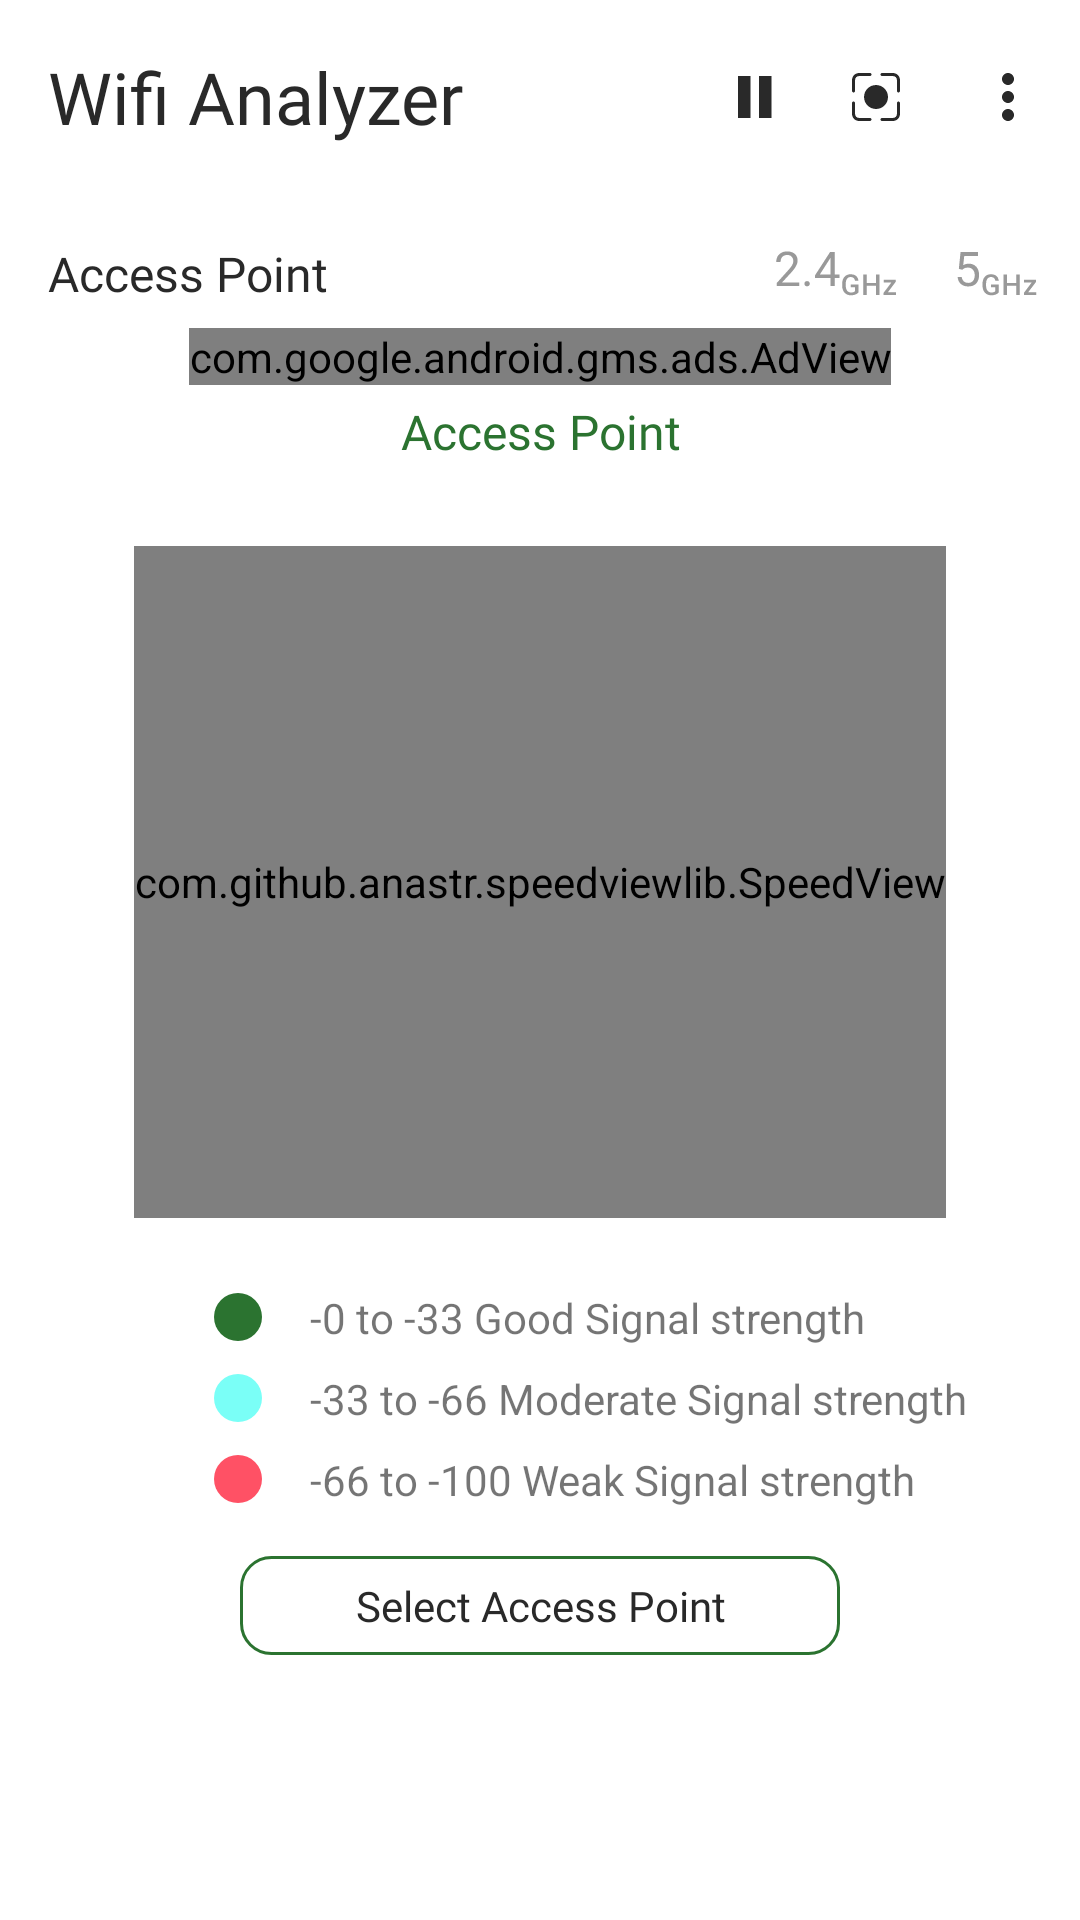

Where icons sit on this 1080×1920 app screen, as (x1, y1, x2, y2):
more: (1002, 73, 1014, 121)
screen shot: (852, 73, 900, 121)
